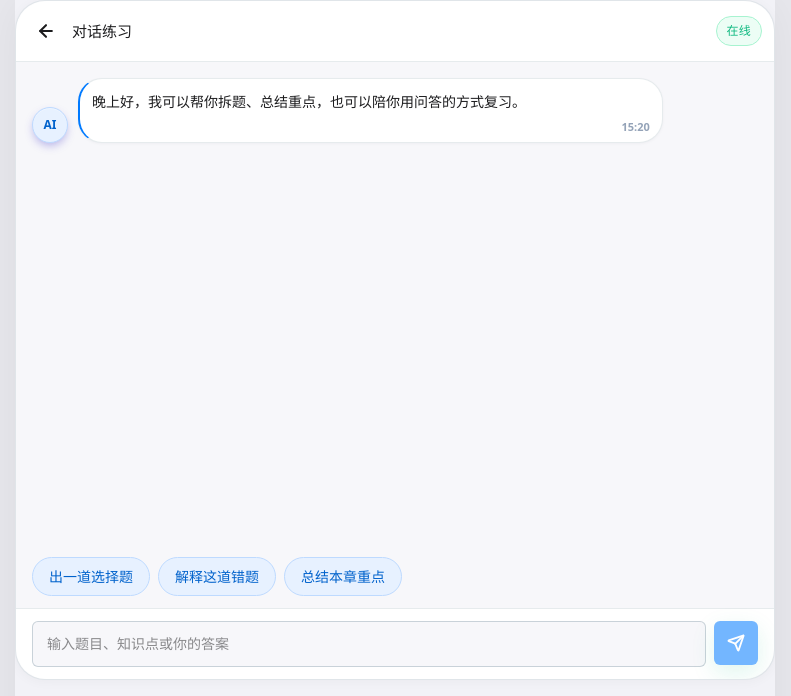
Test: Chat UX polish › keeps markdown rendered and exposes retry after request failure
This screenshot has width=791, height=696.
Type "解释这道题" into the text box with placeholder "输入题目、知识点或你的答案" at (369, 644), box [32,621,706,667]
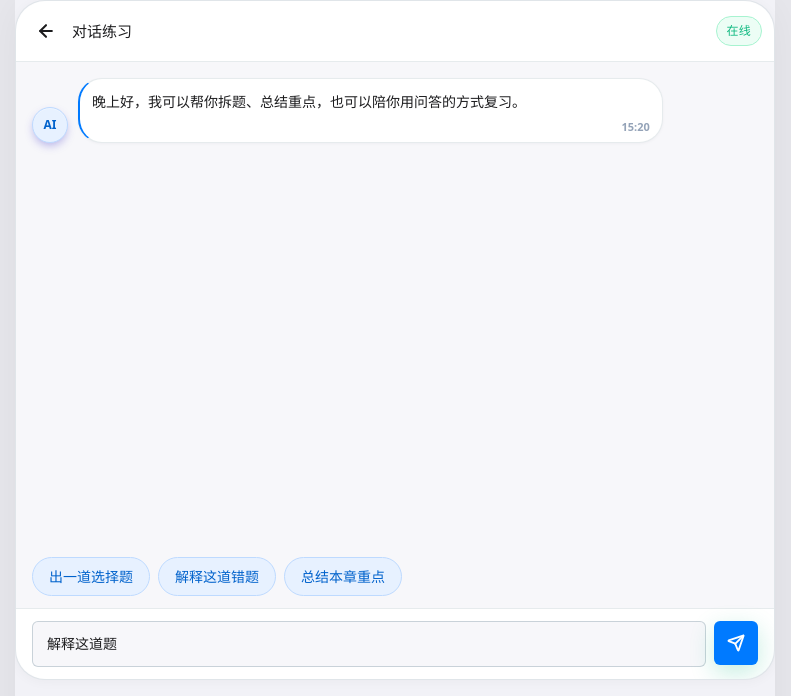
Submit the form, box [16,608,774,679]
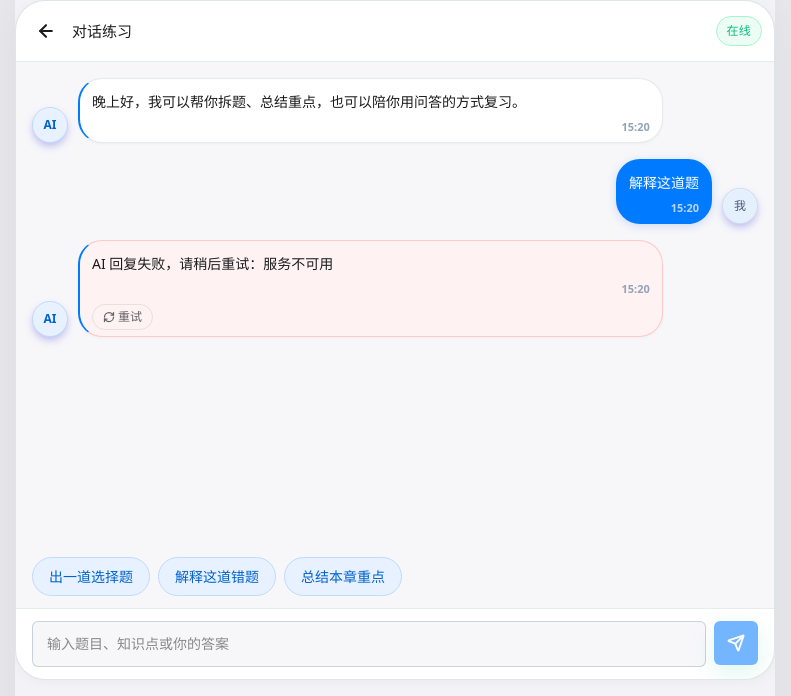
Expected: the text "AI 回复失败，请稍后重试" is shown, [92,254,333,273]
Expected: the text "重试" is shown, [92,254,333,273]
